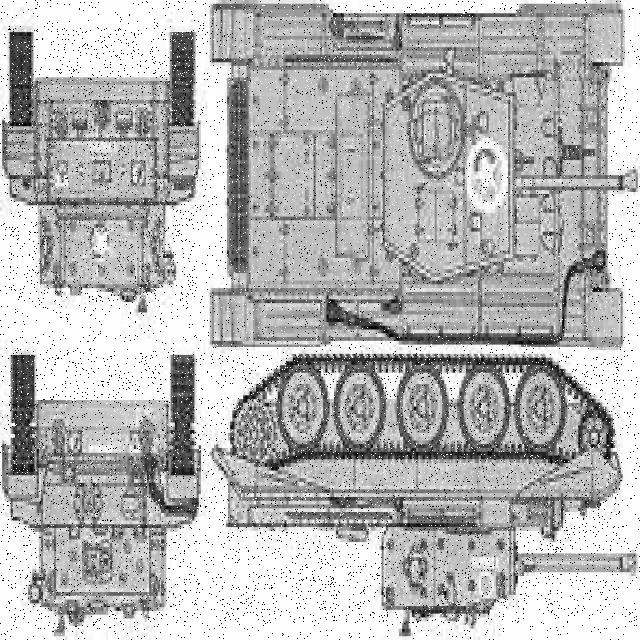MIL_MBT: (208, 6, 624, 347), (220, 356, 620, 623), (7, 347, 200, 629), (5, 28, 197, 302)
